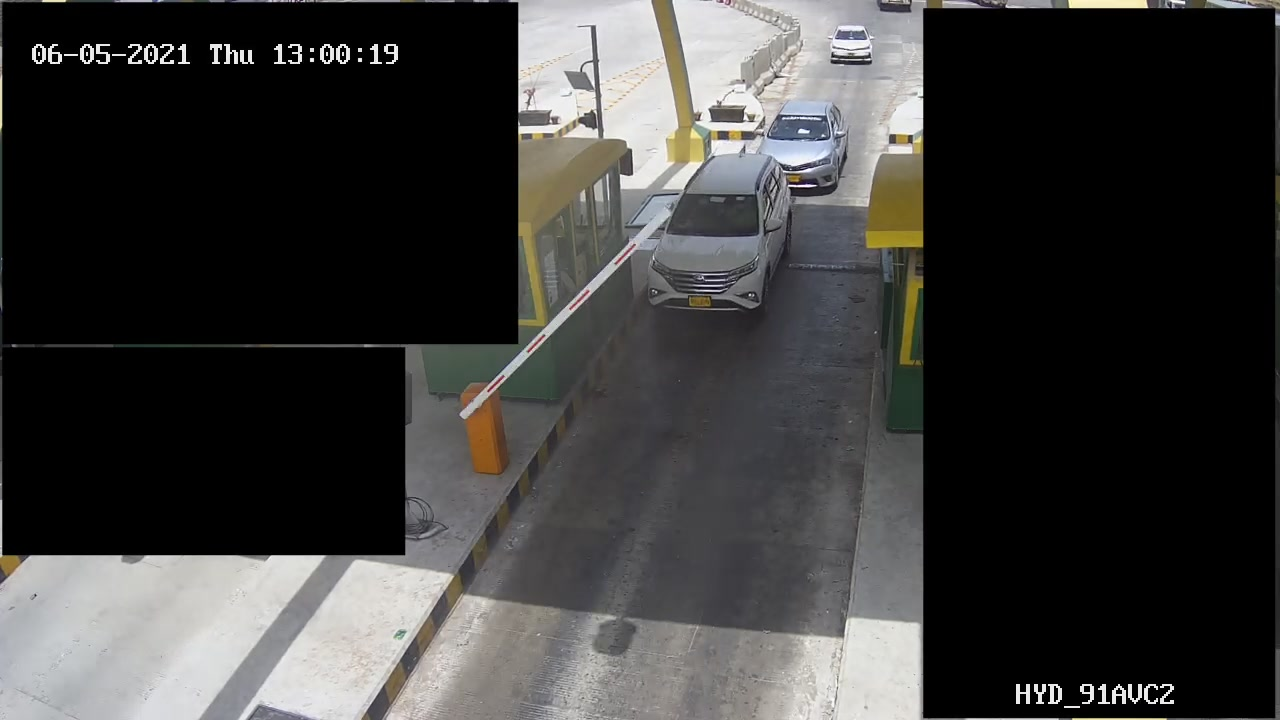F1: (645, 151, 797, 326)
